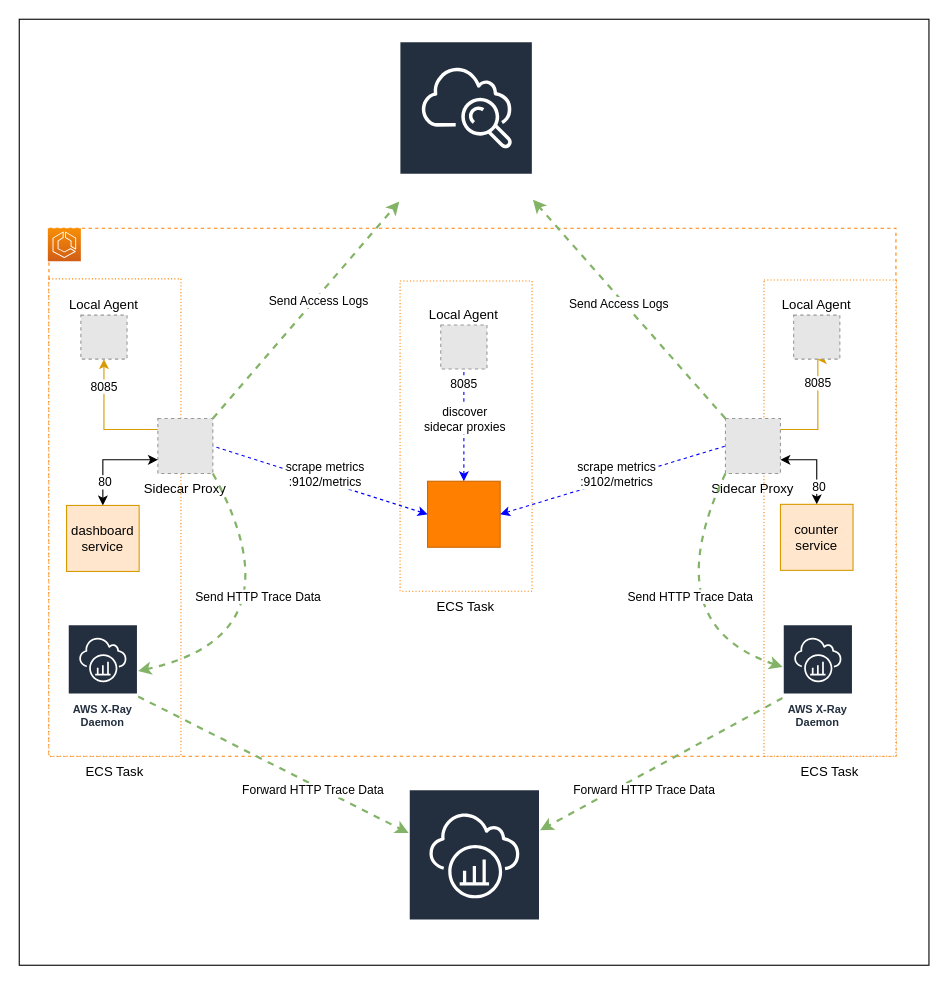
The diagram is 948 pixels wide and 985 high, and some of its shapes have lost their labels. Grey dashed boxes stand in for pictures. The box of each missing label's shape, as (x1, y1, x2, y2) in pixels:
Amazon CloudWatch Logs: (398, 40, 533, 206)
AWS X-Ray: (408, 788, 540, 943)
ECS Fargate Cluster: (47, 227, 81, 261)
prometheus service: (426, 480, 500, 547)
